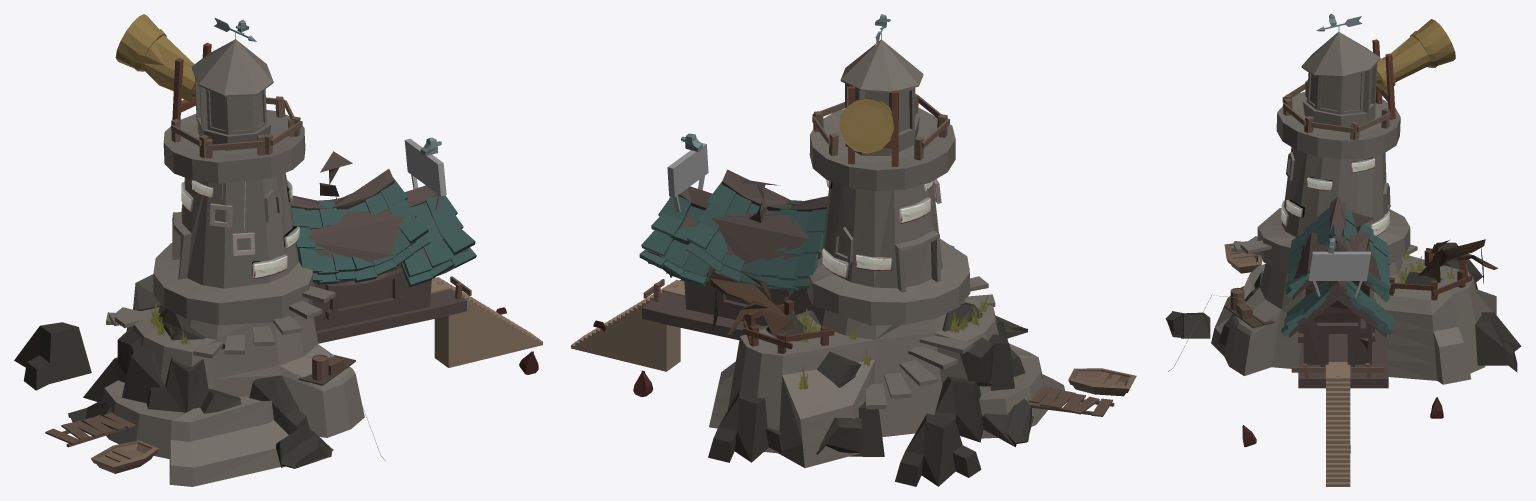
File: lighthouse.access-v12.lod0.glb
3 renders of one model, left to right at view 1: azimuth 30°, elevation 25°; view 2: azimuth 150°, elevation 25°; view 3: azimuth 270°, elevation 25°, orthographic. The views are drawn at different scales.
Parts seen in each view (by area): view 1: Cylinder001_Material #343_0, ChamferBox002_Material #263_0; view 2: Cylinder001_Material #343_0, ChamferBox002_Material #263_0, Plane004_Material #342_0; view 3: Cylinder001_Material #343_0, ChamferBox002_Material #263_0.
Boxes of the visible parts, x1=… form: Cylinder001_Material #343_0: x1=14, y1=14, x2=542, y2=486; ChamferBox002_Material #263_0: x1=181, y1=180, x2=299, y2=278; Cylinder001_Material #343_0: x1=571, y1=14, x2=1136, y2=486; ChamferBox002_Material #263_0: x1=822, y1=180, x2=933, y2=278; Plane004_Material #342_0: x1=776, y1=295, x2=989, y2=389; Cylinder001_Material #343_0: x1=1165, y1=14, x2=1521, y2=486; ChamferBox002_Material #263_0: x1=1281, y1=157, x2=1389, y2=236.
Bounding box in the file's own units: 29.4 × 22 × 20.52.
Materials: 3 (2 with a texture image).
